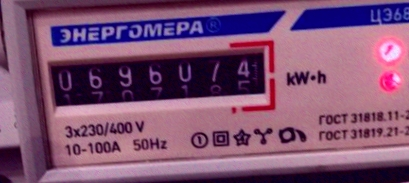0: (54, 67, 74, 92), (175, 58, 193, 84)
4: (233, 54, 251, 77)
5: (236, 79, 253, 95)
6: (146, 59, 165, 86), (86, 65, 104, 90)
7: (205, 57, 224, 83)
9: (116, 62, 133, 89)
screen: (37, 36, 280, 118)
